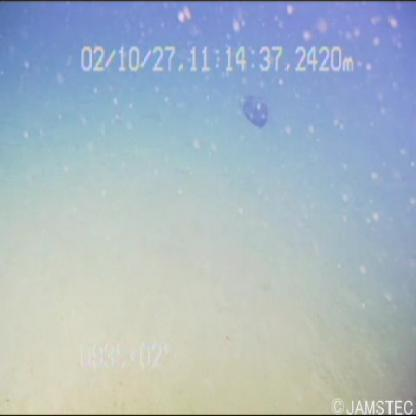Rác: (226, 80, 284, 133)
